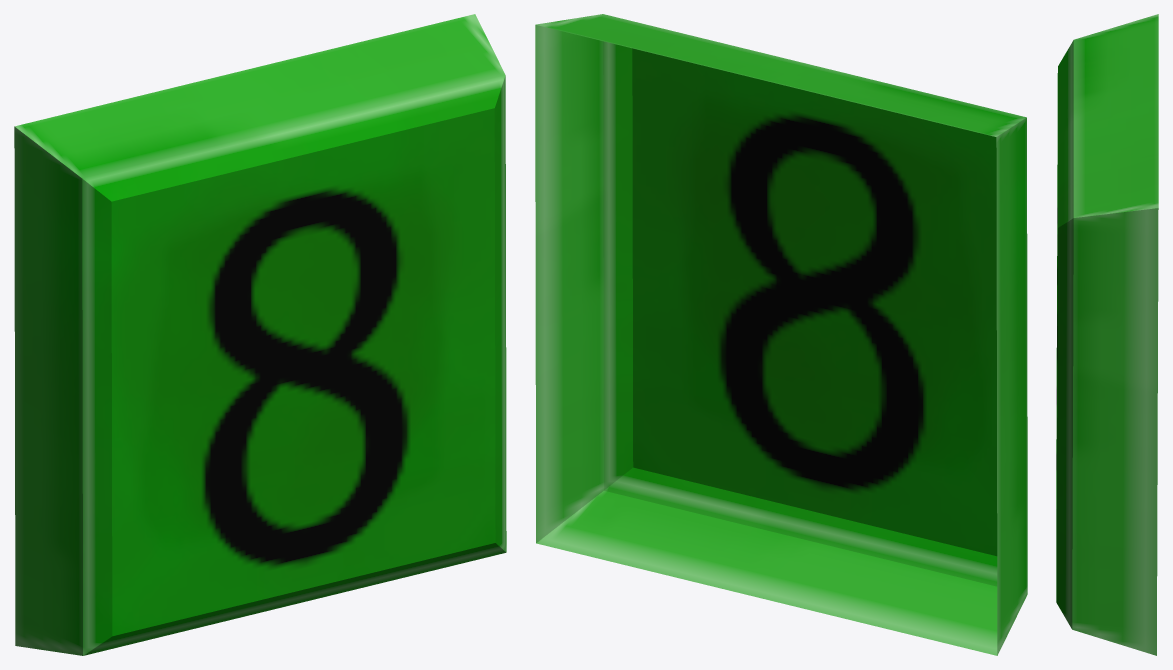
Rendered from PadNumber_8.FBX.
3 renders of one model, left to right at view 1: azimuth 30°, elevation 25°; view 2: azimuth 150°, elevation 25°; view 3: azimuth 270°, elevation 25°, orthographic. The views are drawn at different scales.
Parts seen in each view (by area): view 1: Pad_Number_8; view 2: Pad_Number_8; view 3: Pad_Number_8.
Boxes of the visible parts, x1,y1,x2,y2 form: Pad_Number_8: (14,14,506,655); Pad_Number_8: (535,14,1027,655); Pad_Number_8: (1056,14,1158,655).
Bounding box in the file's own units: 5.5 × 5.91 × 1.22.
1 material, 1 textured.
